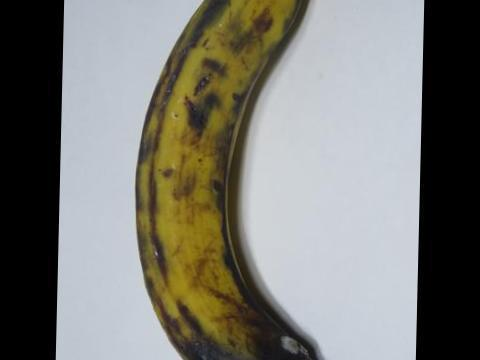overripe: (123, 0, 328, 359)
rotten: (187, 282, 336, 359)
